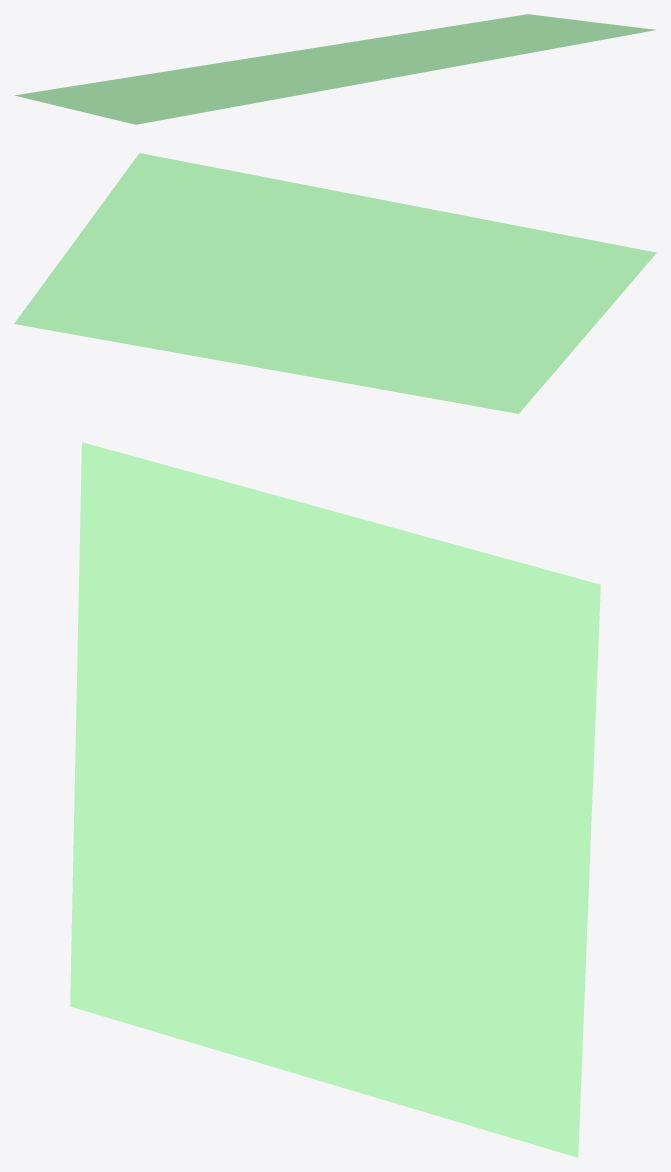
The model's file is change_4.fbx.
The picture shows the model from 3 angles, top to bottom: view 1: azimuth 30°, elevation 25°; view 2: azimuth 150°, elevation 25°; view 3: azimuth 270°, elevation 25°; orthographic projection. The views are drawn at different scales.
Parts seen in each view (by area): view 1: change_4; view 2: change_4; view 3: change_4.
Part boxes in pixels (left/top/right/bottom): change_4: left=14, top=14, right=655, bottom=124; change_4: left=14, top=153, right=656, bottom=413; change_4: left=70, top=442, right=600, bottom=1157.
Bounding box in the file's own units: 3.06 × 0.5993 × 1.36.
